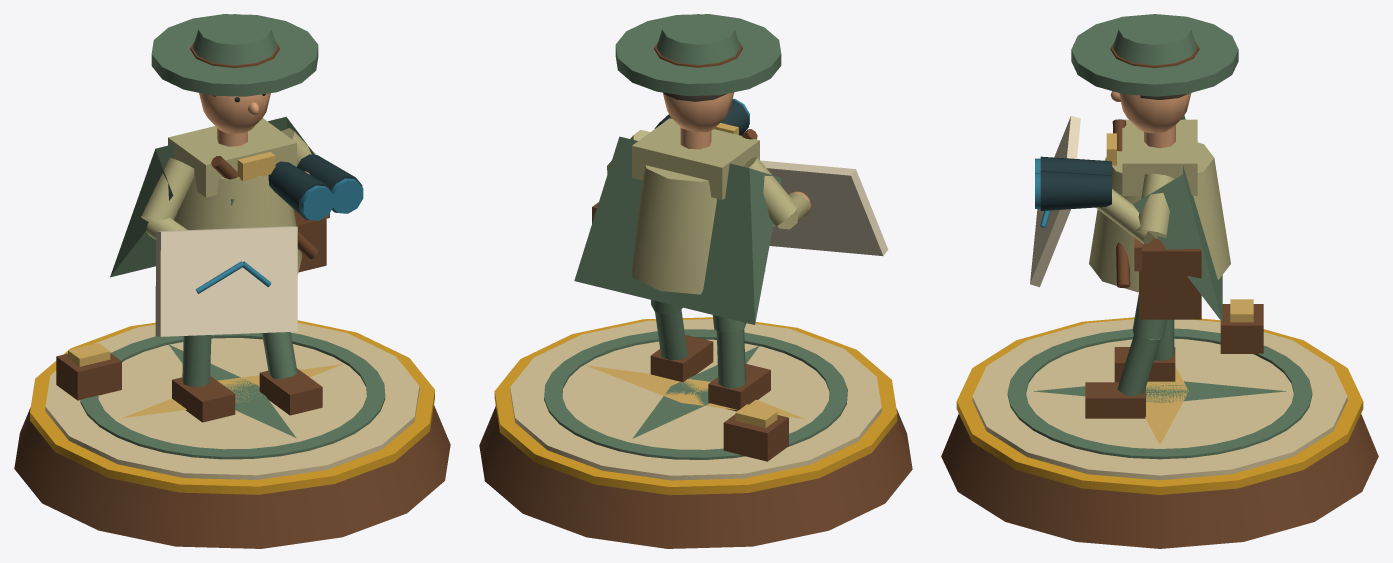
The model's file is scout.glb.
3 renders of one model, left to right at view 1: azimuth 30°, elevation 25°; view 2: azimuth 150°, elevation 25°; view 3: azimuth 270°, elevation 25°, orthographic.
Visible parts, largest first — view 1: foundation_sand, foundation_leather, map_cream, scout_hat_olive, foundation_ochre, compass_olive, scout_torso_khaki, scout_shoulders_khaki, scout_boots_leather, travelling_mantle_olive, scout_legs_olive, scout_arms_khaki (+10 smaller); view 2: foundation_sand, foundation_leather, travelling_mantle_olive, scout_hat_olive, foundation_ochre, compass_olive, scout_torso_khaki, map_cream, scout_shoulders_khaki, scout_legs_olive, scout_boots_leather, travel_case_leather (+6 smaller); view 3: foundation_sand, foundation_leather, scout_hat_olive, compass_olive, foundation_ochre, scout_torso_khaki, satchel_leather, scout_shoulders_khaki, travelling_mantle_olive, binoculars_dark, scout_boots_leather, scout_legs_olive (+7 smaller).
Part boxes in pixels (box(x1,y1,x2,y2)): foundation_sand: box(45, 322, 419, 479); foundation_leather: box(14, 405, 450, 548); map_cream: box(155, 226, 297, 336); scout_hat_olive: box(151, 14, 318, 96); foundation_ochre: box(30, 320, 434, 494); compass_olive: box(80, 333, 385, 459); scout_torso_khaki: box(174, 175, 302, 274); scout_shoulders_khaki: box(168, 118, 296, 197); scout_boots_leather: box(172, 368, 322, 422); travelling_mantle_olive: box(110, 116, 314, 277); scout_legs_olive: box(182, 332, 297, 387); scout_arms_khaki: box(141, 128, 316, 239); foundation_sand: box(510, 319, 881, 480); foundation_leather: box(479, 406, 912, 548); travelling_mantle_olive: box(574, 136, 781, 324); scout_hat_olive: box(615, 14, 781, 95); foundation_ochre: box(494, 317, 897, 495); compass_olive: box(544, 329, 847, 459); scout_torso_khaki: box(632, 165, 765, 294); map_cream: box(760, 160, 888, 255); scout_shoulders_khaki: box(632, 118, 759, 199); scout_legs_olive: box(651, 300, 746, 388); scout_boots_leather: box(650, 334, 770, 411); travel_case_leather: box(723, 414, 788, 461); foundation_sand: box(972, 319, 1347, 480); foundation_leather: box(941, 414, 1378, 548); scout_hat_olive: box(1071, 14, 1238, 96); compass_olive: box(1007, 328, 1312, 459); foundation_ochre: box(956, 317, 1363, 494); scout_torso_khaki: box(1089, 142, 1230, 292); satchel_leather: box(1139, 238, 1201, 319); scout_shoulders_khaki: box(1122, 119, 1197, 195); travelling_mantle_olive: box(1133, 115, 1222, 322); binoculars_dark: box(1040, 156, 1111, 210); scout_boots_leather: box(1085, 347, 1175, 418); scout_legs_olive: box(1117, 294, 1174, 395).
Size of the model in its own units: 1 by 1.08 by 1.
